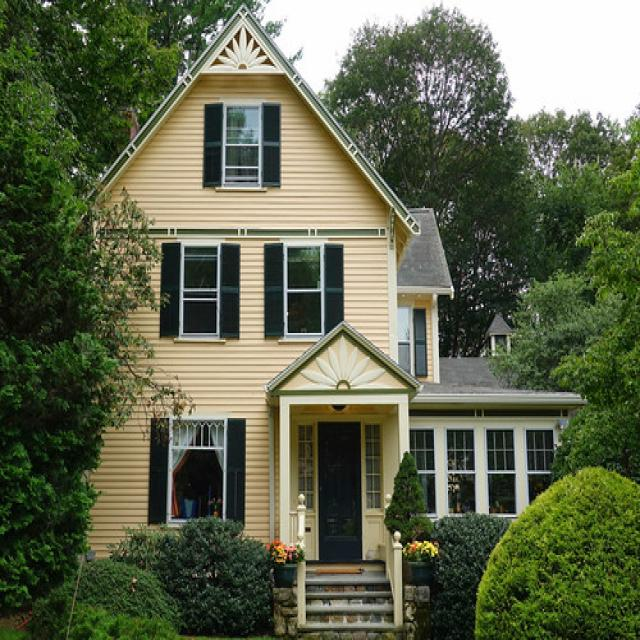building: (54, 1, 591, 636)
